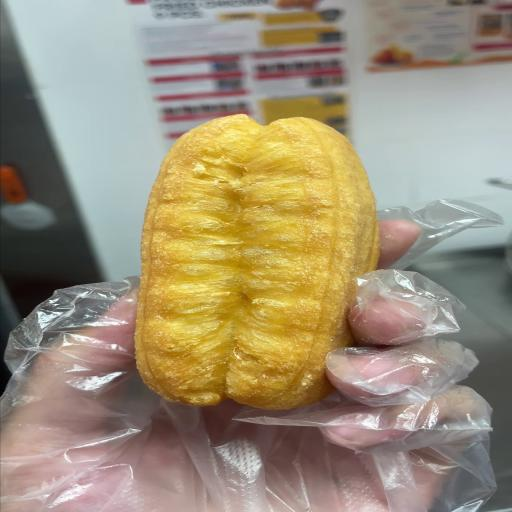brand_golden_good: (135, 115, 378, 409)
